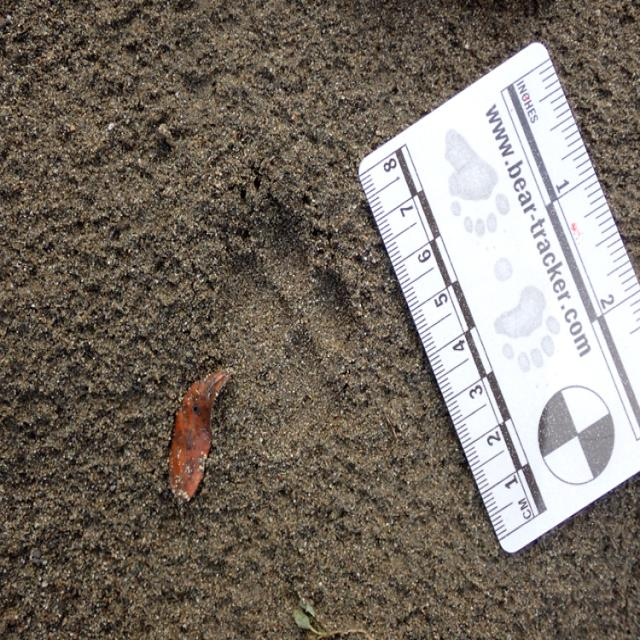canid: (217, 210, 356, 446)
